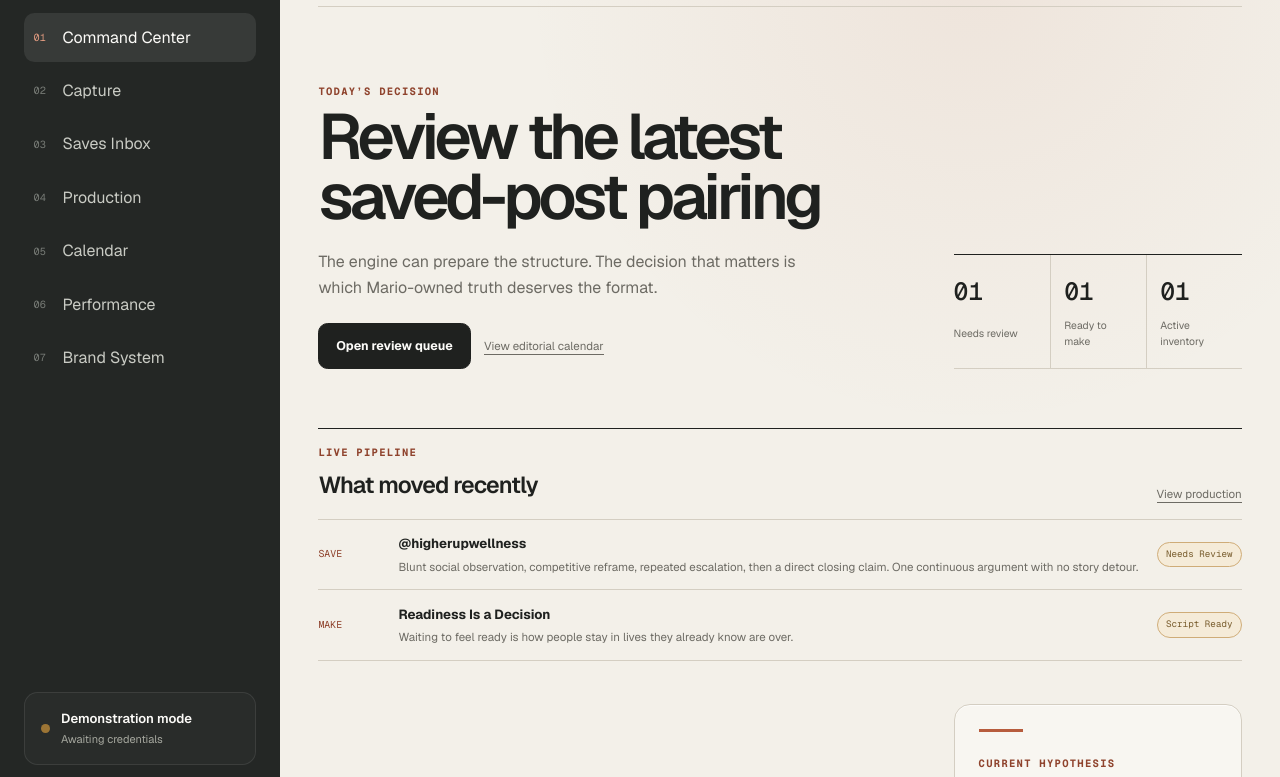
Scenario: Production package instructions › clears a package from the workbench as soon as it is marked Posted
Click the button "04 Production": point(140, 198) left=24, top=173, right=256, bottom=222
(page scrolled)
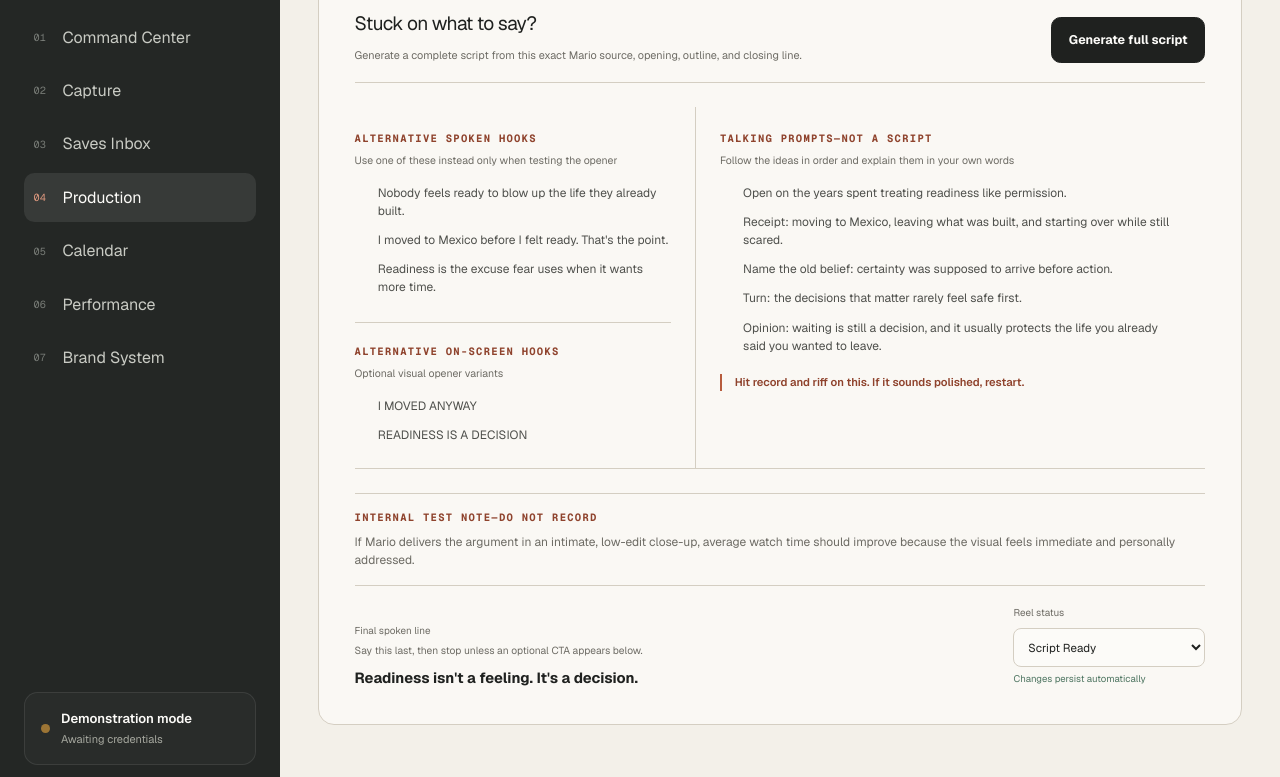
Select "Posted" in the dropdown labelled "Reel status": point(1109, 647) left=1013, top=628, right=1205, bottom=666
(page scrolled)
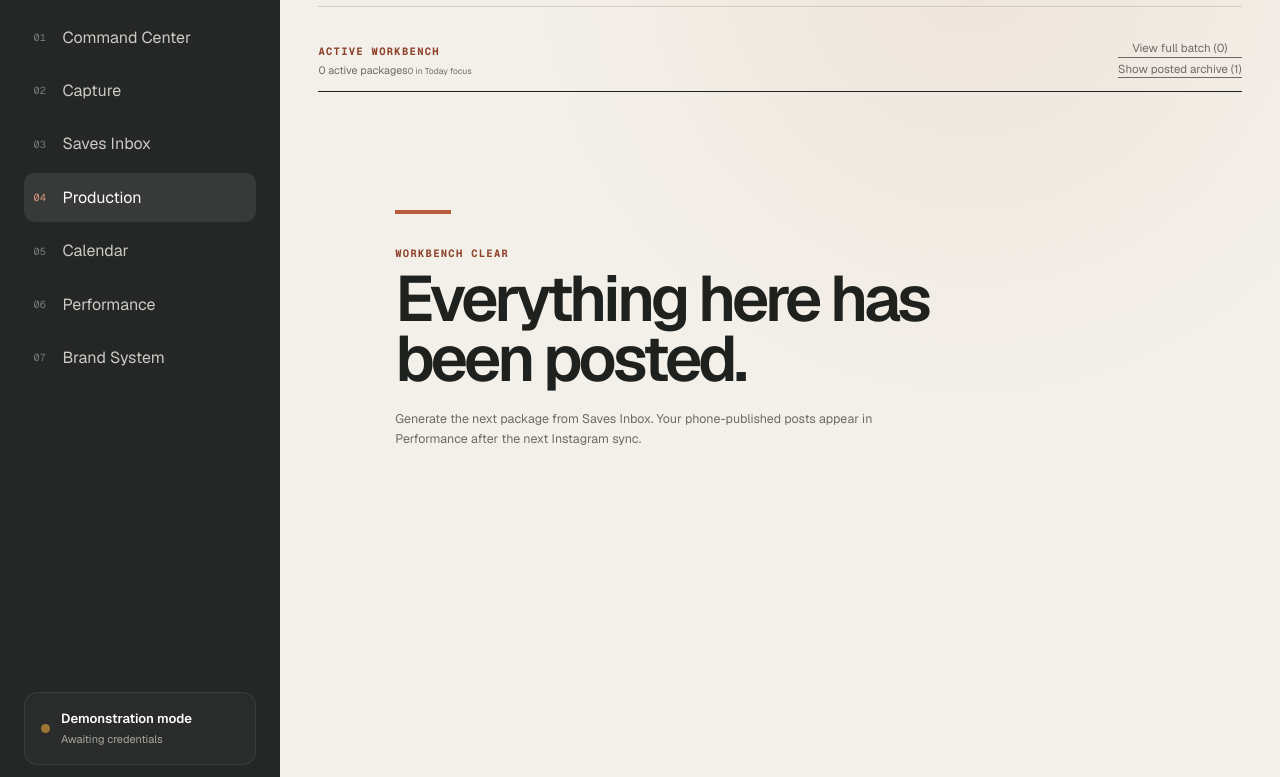
Check: the heading "Everything here has been posted." is shown, box left=395, top=269, right=1007, bottom=390
Check: the list item "READINESS IS A DECISION" is gone
Check: the button "Show posted archive (1)" is shown, box left=1118, top=60, right=1242, bottom=78
